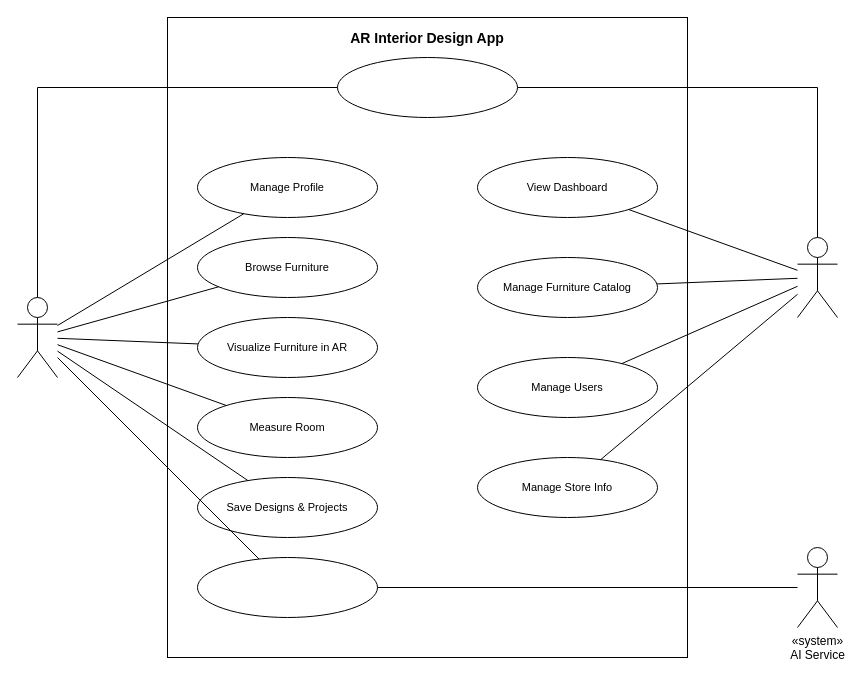
Image size: 862x681. Some labels were removed from this diagram. The box of each missing label's shape, as (x1, y1, x2, y2) in pixels:
Admin: (796, 236, 838, 318)
Get AI Design Recommendations: (196, 556, 378, 618)
Register / Log In: (336, 56, 518, 118)
User: (16, 296, 58, 378)
